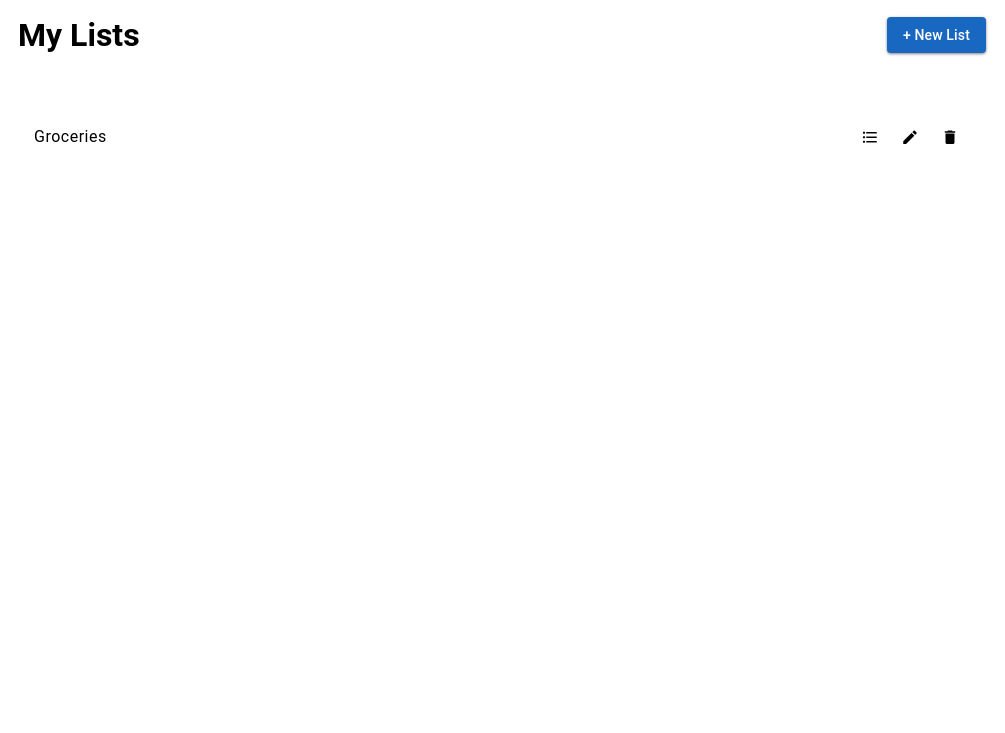
Test: Feature 3 — Todo List Item Management › US-3.4 — Edit and remove tasks › User edits a todo title
Click the button named "View items for Groceries".
click(870, 137)  # box [850,117,890,157]
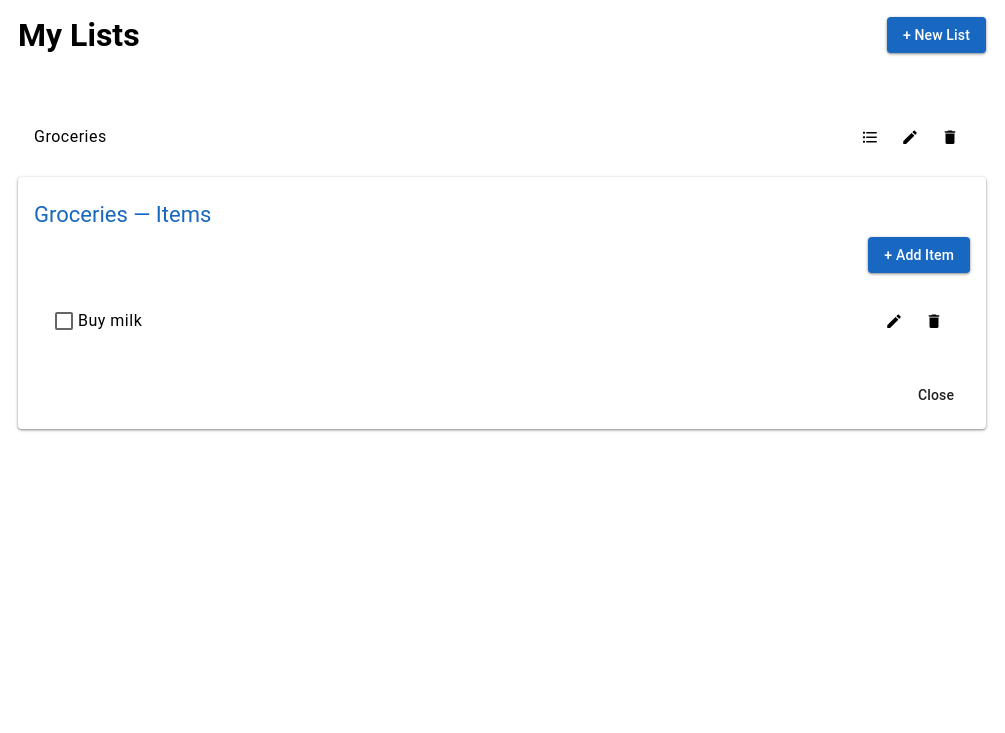
Click the button named "Edit todo".
click(894, 321)  # box [874,301,914,341]
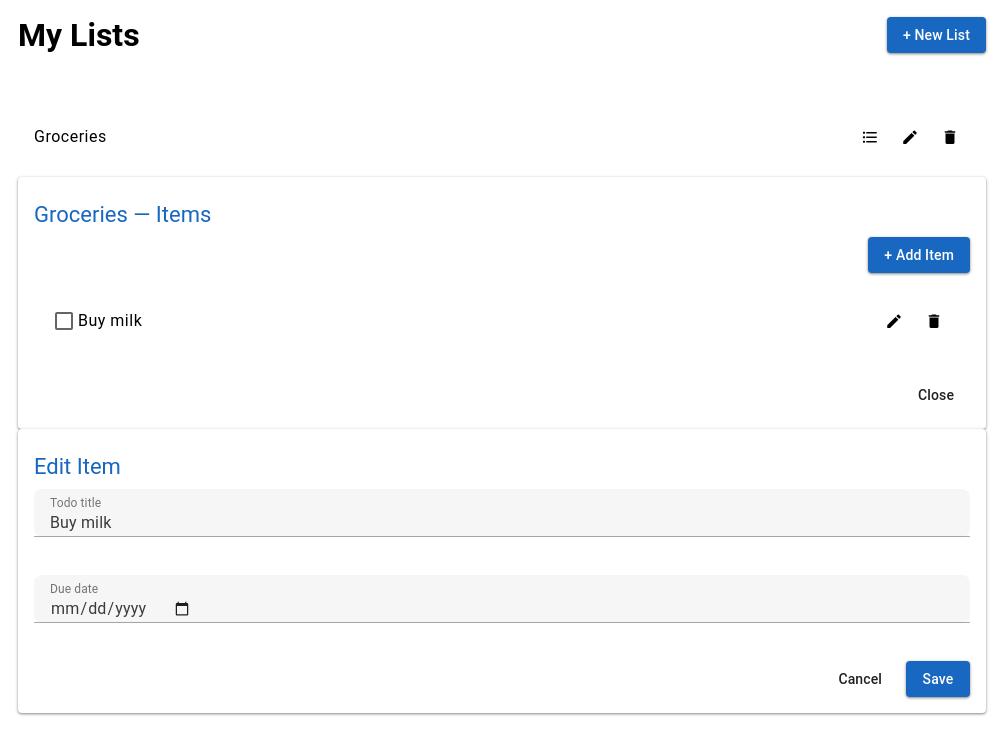
Replace the text in the field labelled "Todo title" with "Buy oat milk" at (502, 513), box [34,489,970,537]
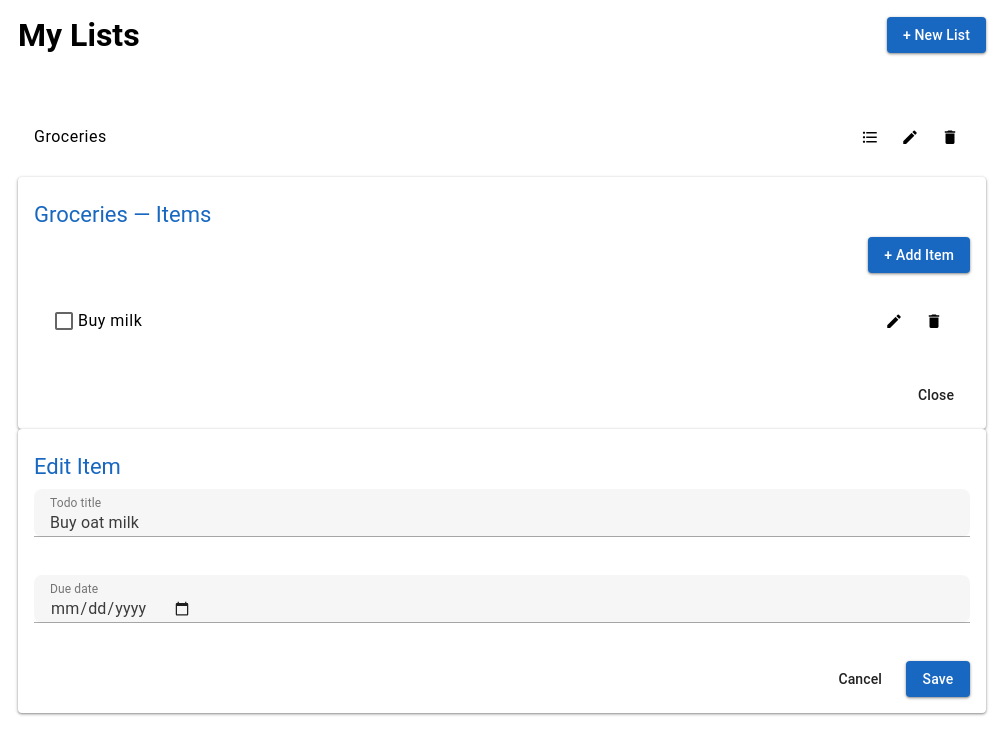
Submit the form, box [34,489,970,697]
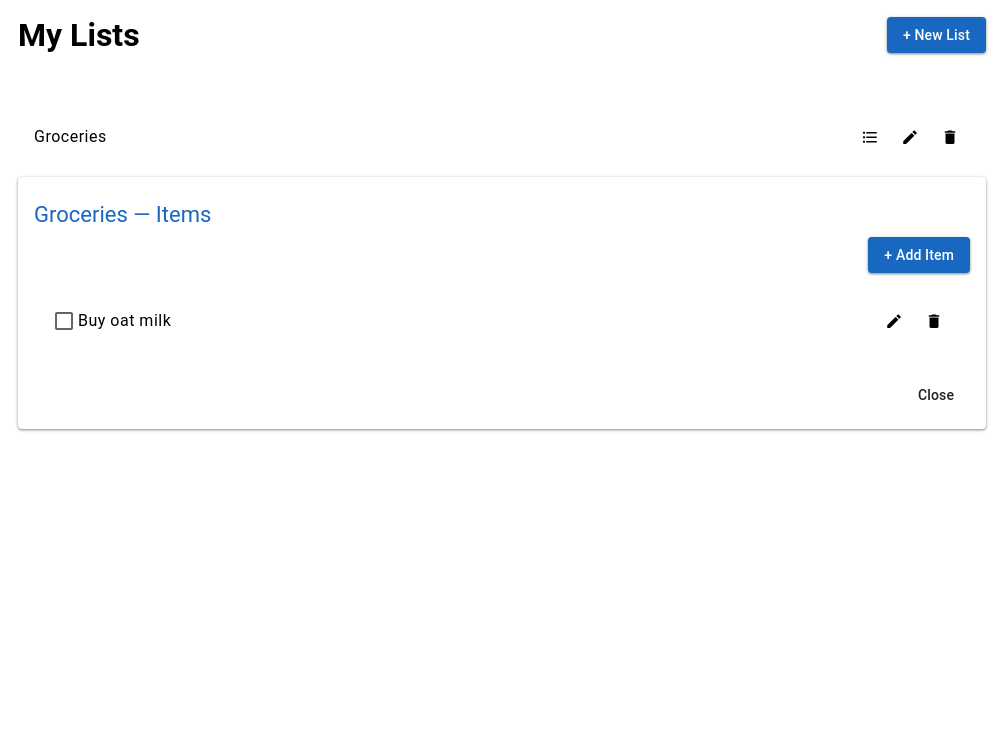
Now the text "Buy oat milk" is shown, box [78,311,171,330]
